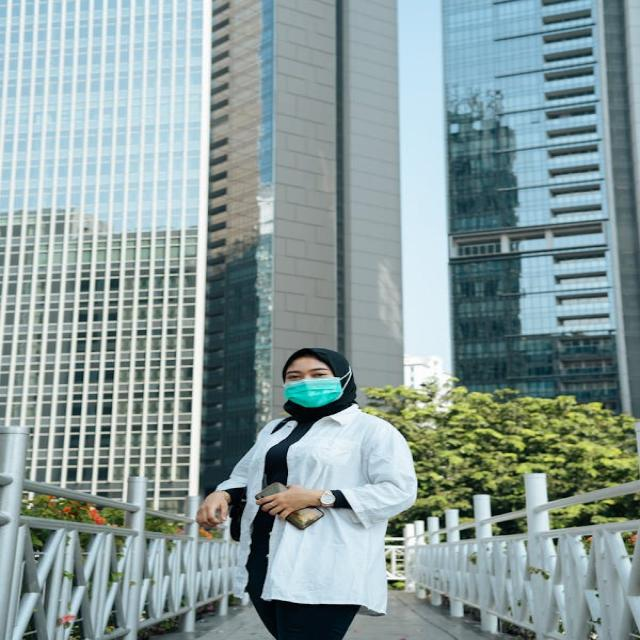mask: (233, 353, 365, 419)
